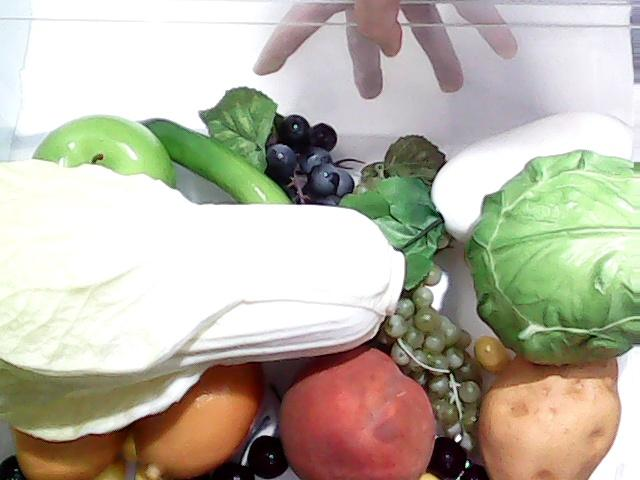apple: (25, 112, 175, 192)
cabbage: (475, 139, 640, 388)
grape: (384, 266, 481, 428), (261, 106, 367, 202)
lemon: (126, 340, 266, 480)
mango: (10, 415, 125, 480)
napa cabbage: (0, 158, 408, 440)
peach: (277, 343, 435, 480)
pepper: (140, 115, 290, 203)
potato: (478, 340, 622, 480)
radish: (334, 105, 640, 291)
